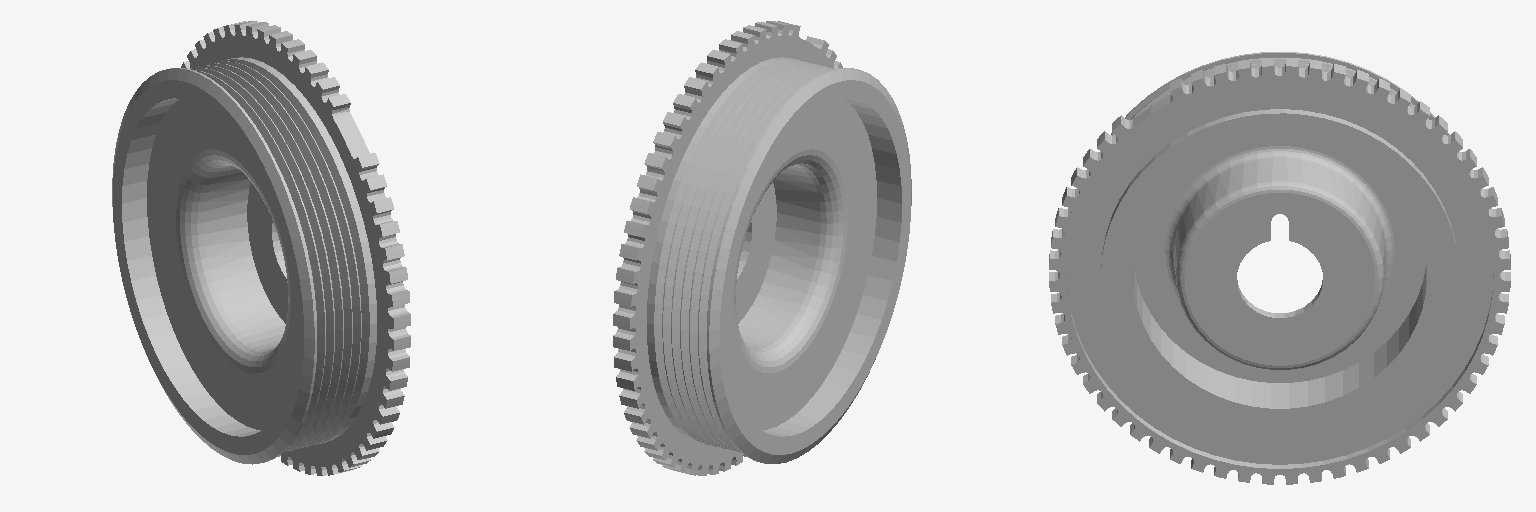
File: Демпфер коленчатого вала.obj
The picture shows the model from 3 angles: view 1: azimuth 30°, elevation 25°; view 2: azimuth 150°, elevation 25°; view 3: azimuth 270°, elevation 25°; orthographic projection.
Parts seen in each view (by area): view 1: Демпфер_коленчатого_вала; view 2: Демпфер_коленчатого_вала; view 3: Демпфер_коленчатого_вала.
Boxes of the visible parts, <box> form: Демпфер_коленчатого_вала: <box>112,21,410,475</box>; Демпфер_коленчатого_вала: <box>613,21,911,475</box>; Демпфер_коленчатого_вала: <box>1049,52,1510,484</box>.
Bounding box in the file's own units: 38 × 160 × 160.